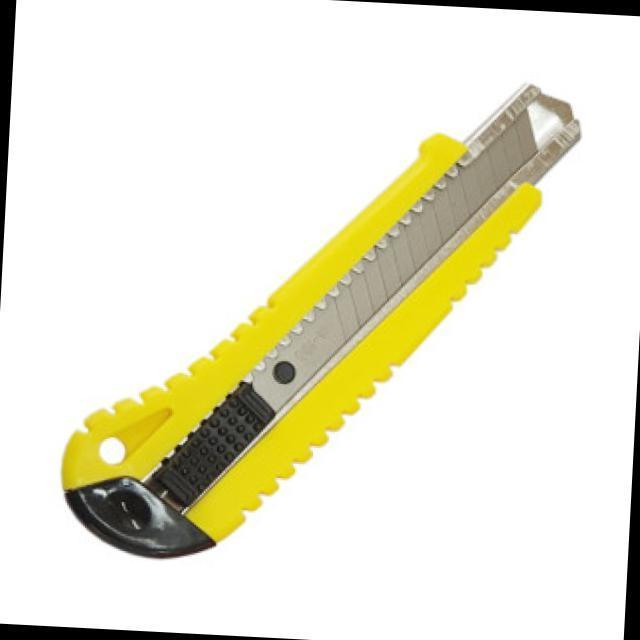cutter: (42, 45, 594, 588)
